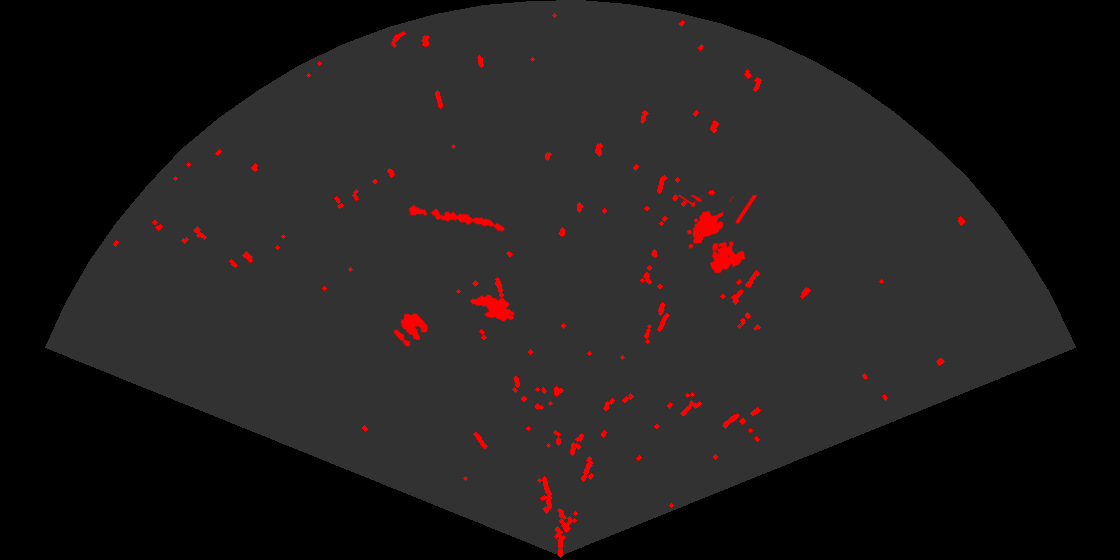AUV: (469, 293, 516, 323)
ball: (392, 312, 429, 348)
cage: (676, 195, 759, 275)
chain: (406, 203, 506, 233)
